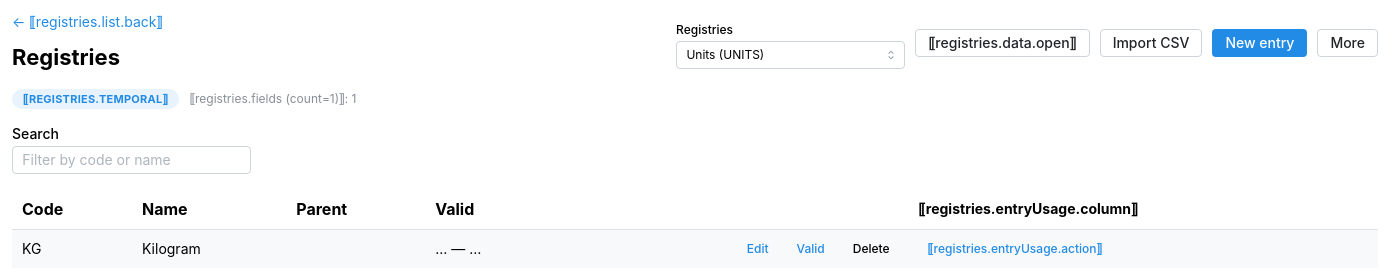
Scenario: L9-18: симуляція — довідники лише для читання › контроль: без симуляції ті самі кнопки є
Expected: the text "Kilogram" is shown, [142, 240, 201, 257]
Click the button "More". click: (1348,42)
box: [1317, 28, 1378, 56]
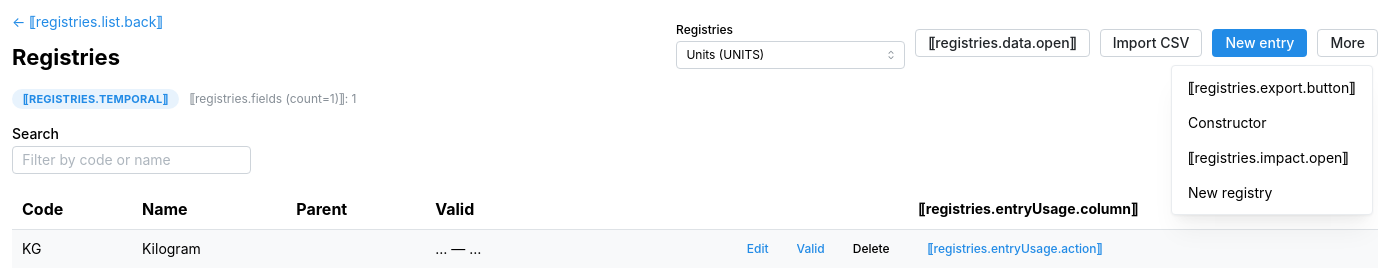
Expected: the button "New entry" is shown, [1212, 28, 1307, 56]
Now the menu item "New registry" is shown, box [1176, 174, 1368, 210]
